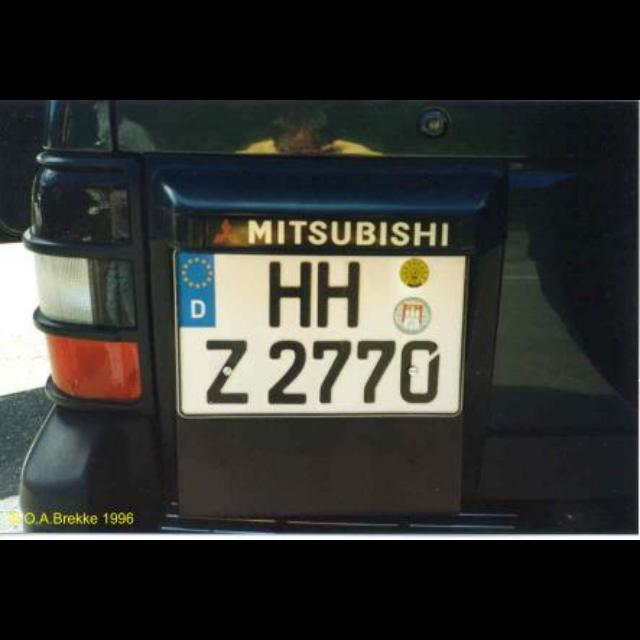d_license_plate: (172, 251, 460, 415)
